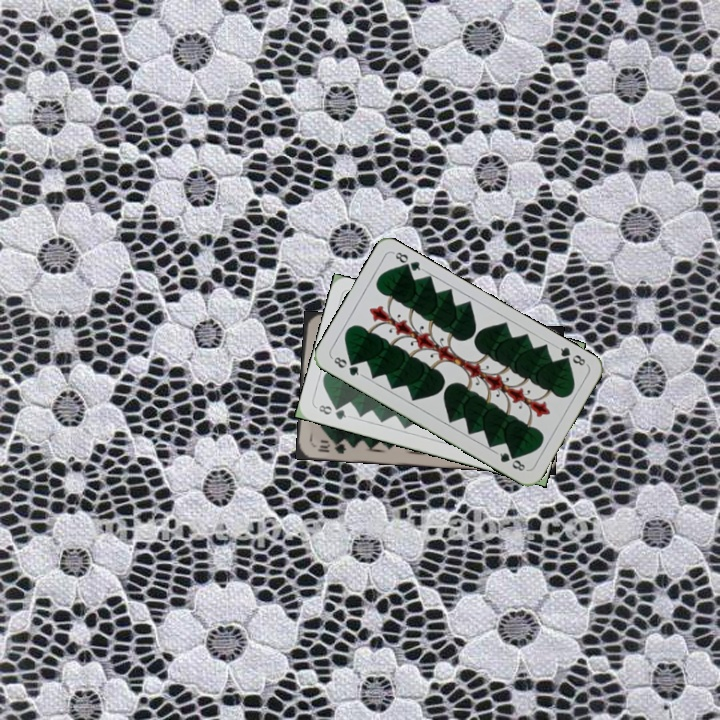G10: (313, 436, 352, 456)
G8: (328, 353, 365, 379), (552, 342, 588, 368), (314, 401, 349, 422)
